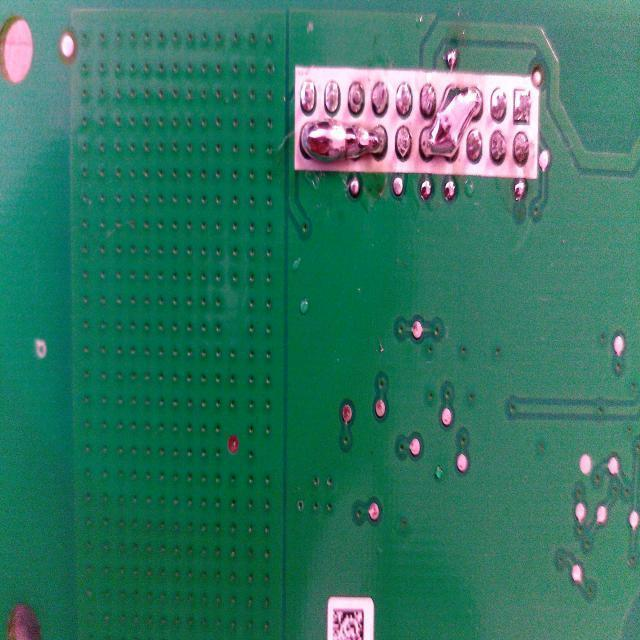Soldering shorted: (417, 76, 484, 166), (299, 120, 389, 166)
